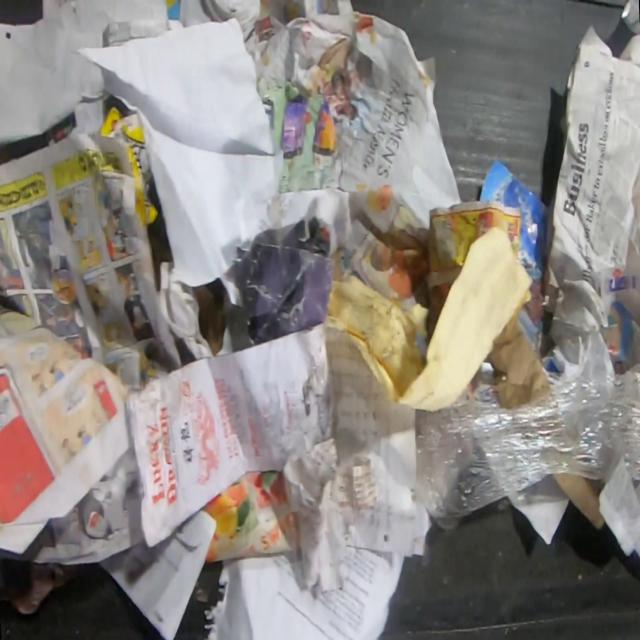cardboard: (482, 308, 552, 409), (0, 556, 84, 617), (552, 472, 608, 534)
soft_plastic: (412, 359, 640, 532)
